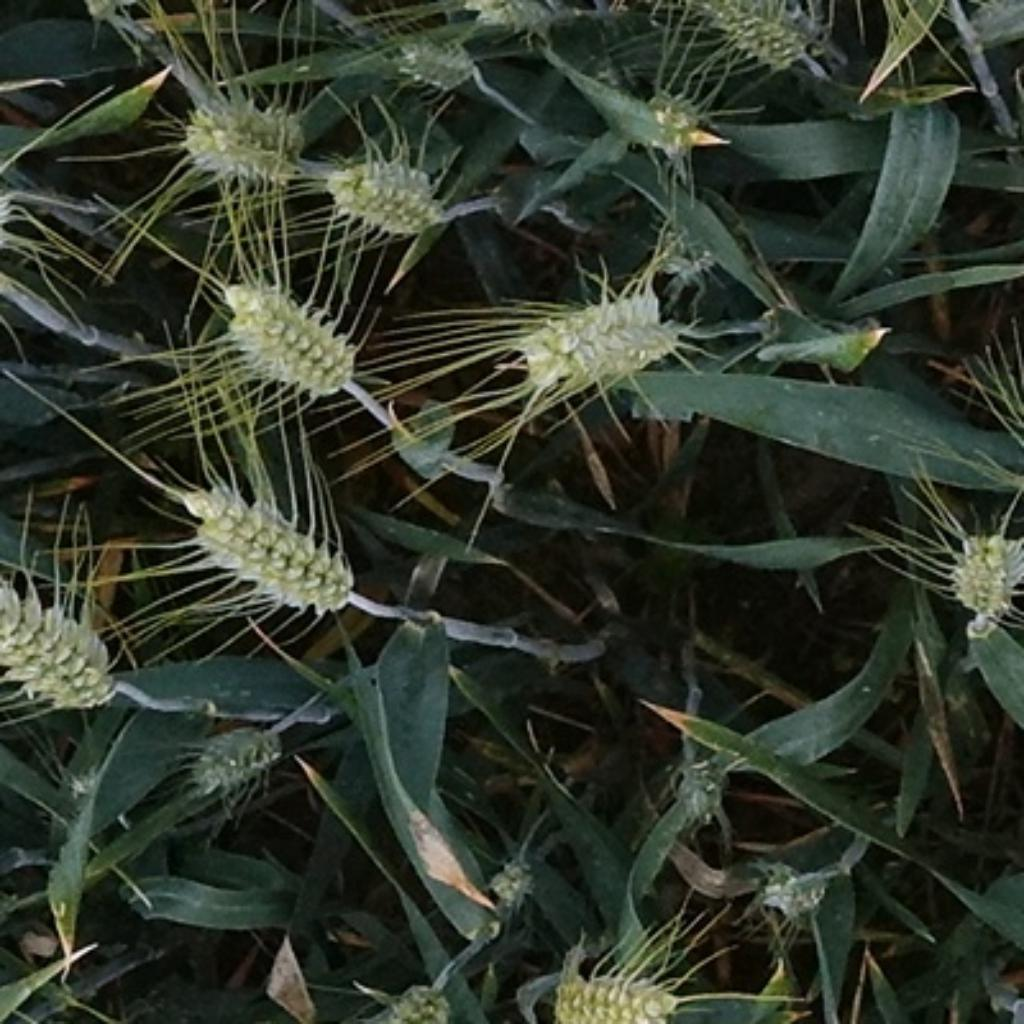0-0: (171, 465, 368, 616), (207, 261, 371, 399), (504, 284, 691, 401), (3, 571, 128, 731), (168, 85, 312, 195), (318, 146, 451, 245), (542, 952, 701, 1024), (688, 0, 824, 80), (934, 514, 1024, 631), (178, 719, 290, 801), (622, 79, 724, 158), (746, 850, 838, 935), (386, 29, 481, 103), (663, 737, 734, 824), (481, 842, 550, 921), (456, 0, 563, 48), (371, 972, 465, 1024)
